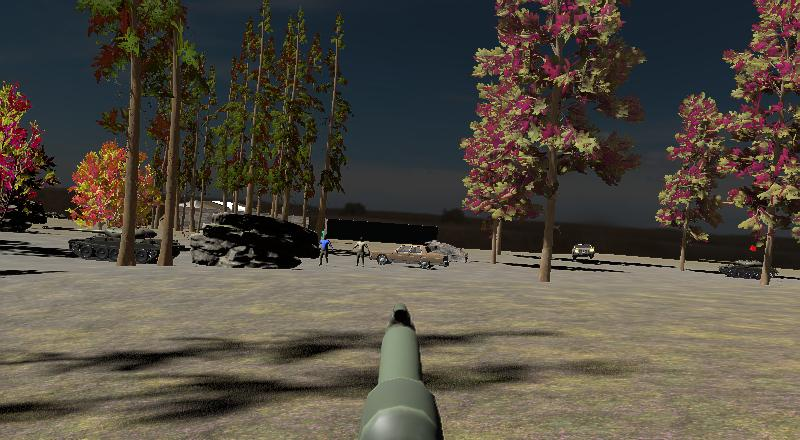Human: (352, 235, 370, 268), (316, 233, 332, 267)
Tank: (54, 223, 190, 265), (696, 255, 774, 281)
car: (372, 242, 450, 271)
